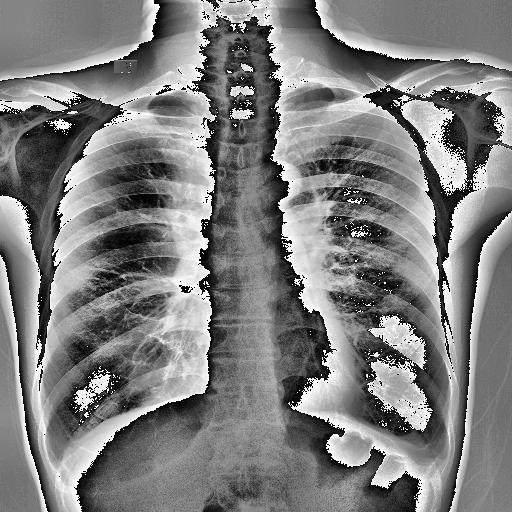0- Aortic enlargement: (266, 160, 302, 202)
10- Pleural effusion: (420, 432, 454, 470), (40, 436, 66, 476)
11- Pleural thickening: (420, 432, 454, 470), (40, 436, 66, 476), (48, 446, 78, 478), (420, 441, 450, 473), (426, 444, 448, 476), (48, 454, 62, 478)
